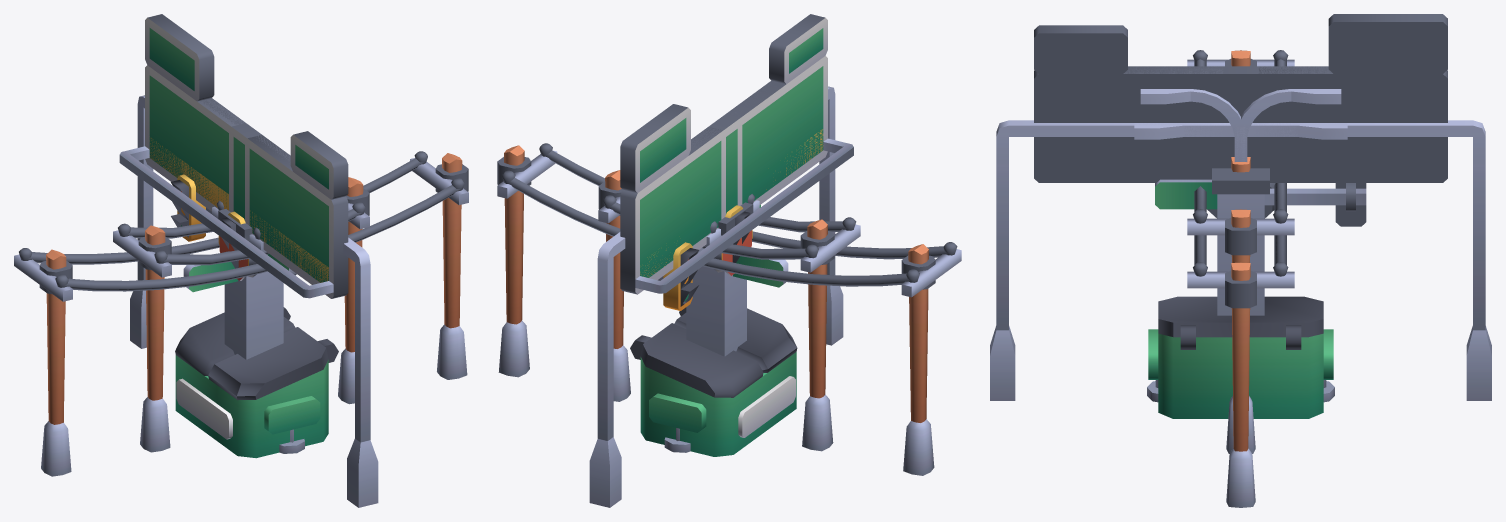
The model's file is kenney_props.glb.
The picture shows the model from 3 angles, left to right: view 1: azimuth 30°, elevation 25°; view 2: azimuth 150°, elevation 25°; view 3: azimuth 270°, elevation 25°; orthographic projection. The views are drawn at different scales.
Visible parts, largest first — view 1: sign_highway_detailed, dumpster, electricity_pole_wide, sign_highway_wide, sign_highway, electricity_pole, bridge_pillar_wide, traffic_light_hanging, road_sign_street; view 2: sign_highway_wide, dumpster, electricity_pole_wide, sign_highway, electricity_pole, sign_highway_detailed, bridge_pillar_wide, traffic_light_hanging, road_sign_street; view 3: sign_highway_wide, sign_highway_detailed, dumpster, sign_highway, electricity_pole_wide, electricity_pole, bridge_pillar_wide, light_square_double, traffic_light_hanging, light_curved, light_curved_double, road_sign_street.
Boxes of the visible parts, bbox=[...] form: sign_highway_detailed: bbox=[145, 14, 348, 297]; dumpster: bbox=[175, 307, 338, 458]; electricity_pole_wide: bbox=[14, 151, 468, 476]; sign_highway_wide: bbox=[119, 76, 348, 298]; sign_highway: bbox=[120, 65, 378, 507]; electricity_pole: bbox=[113, 177, 369, 452]; bridge_pillar_wide: bbox=[218, 209, 283, 359]; traffic_light_hanging: bbox=[171, 174, 211, 241]; road_sign_street: bbox=[183, 254, 296, 292]; sign_highway_wide: bbox=[620, 66, 853, 293]; dumpster: bbox=[630, 307, 797, 456]; electricity_pole_wide: bbox=[497, 143, 961, 475]; sign_highway: bbox=[589, 56, 852, 507]; electricity_pole: bbox=[598, 170, 860, 451]; sign_highway_detailed: bbox=[620, 14, 827, 276]; bridge_pillar_wide: bbox=[686, 202, 753, 356]; traffic_light_hanging: bbox=[658, 242, 703, 310]; road_sign_street: bbox=[733, 205, 788, 287]; sign_highway_wide: bbox=[1034, 66, 1447, 182]; sign_highway_detailed: bbox=[1034, 14, 1447, 182]; dumpster: bbox=[1148, 296, 1333, 418]; sign_highway: bbox=[990, 66, 1491, 400]; electricity_pole_wide: bbox=[1187, 50, 1294, 507]; electricity_pole: bbox=[1187, 183, 1294, 453]; bridge_pillar_wide: bbox=[1212, 168, 1269, 315]; light_square_double: bbox=[1134, 123, 1347, 161]; traffic_light_hanging: bbox=[1264, 183, 1366, 226]; light_curved: bbox=[1234, 89, 1341, 161]; light_curved_double: bbox=[1140, 89, 1244, 161]; road_sign_street: bbox=[1155, 179, 1217, 209].
Size of the model in its own units: 1.08 by 0.8221 by 1.
22 materials, 22 textured.
